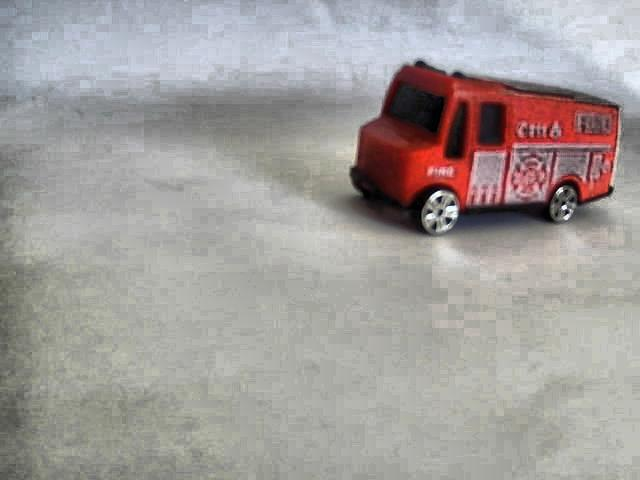fire_truck: (346, 60, 615, 233)
